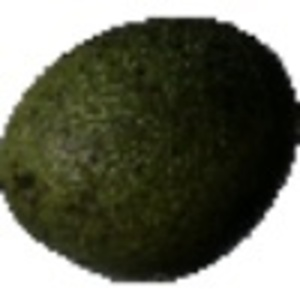abacate: (1, 14, 299, 278)
